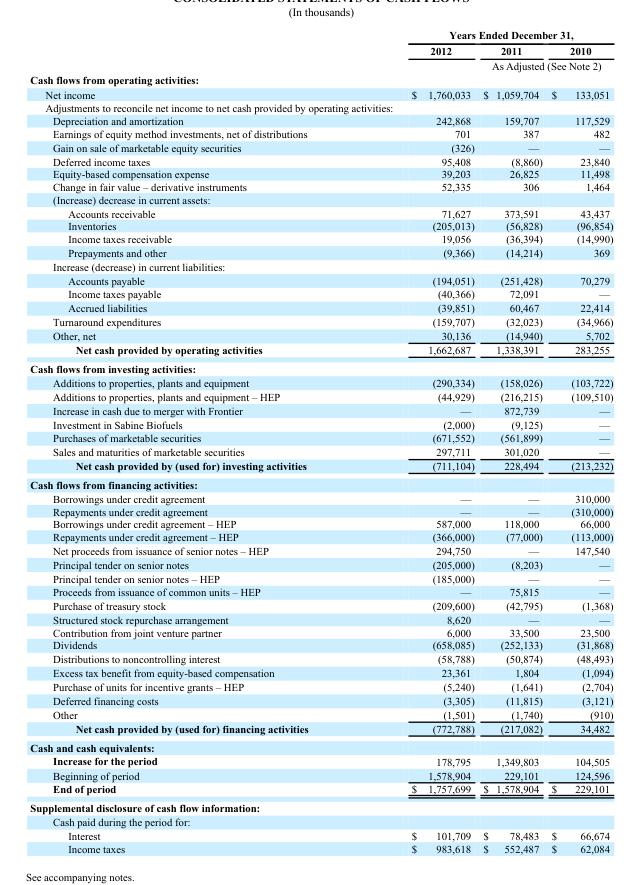table: (29, 28, 612, 854)
table column: (29, 28, 359, 854), (359, 28, 478, 854), (478, 28, 546, 854), (546, 28, 612, 854)
table column header: (29, 28, 612, 72)
table projected row header: (29, 358, 612, 375), (29, 474, 612, 491), (29, 737, 612, 753), (29, 798, 612, 814), (29, 72, 612, 86), (29, 192, 612, 206), (29, 259, 612, 273), (29, 814, 612, 828), (29, 100, 612, 113)
table row: (29, 358, 612, 375), (29, 474, 612, 491), (29, 781, 612, 798), (29, 342, 612, 358), (29, 458, 612, 474), (29, 721, 612, 737), (29, 737, 612, 753), (29, 798, 612, 814), (29, 42, 612, 57), (29, 57, 612, 72), (29, 28, 612, 42), (29, 72, 612, 86), (29, 86, 612, 100), (29, 113, 612, 127), (29, 140, 612, 154), (29, 192, 612, 206), (29, 231, 612, 245), (29, 245, 612, 259), (29, 259, 612, 273), (29, 286, 612, 300), (29, 300, 612, 314), (29, 314, 612, 328), (29, 328, 612, 342), (29, 375, 612, 389), (29, 389, 612, 403), (29, 416, 612, 430), (29, 430, 612, 444), (29, 444, 612, 458), (29, 529, 612, 543), (29, 543, 612, 557), (29, 570, 612, 584), (29, 584, 612, 598), (29, 598, 612, 612), (29, 651, 612, 665), (29, 665, 612, 679), (29, 679, 612, 693), (29, 693, 612, 707), (29, 707, 612, 721), (29, 753, 612, 767), (29, 767, 612, 781), (29, 814, 612, 828), (29, 100, 612, 113), (29, 127, 612, 140), (29, 154, 612, 167), (29, 167, 612, 180), (29, 206, 612, 219), (29, 273, 612, 286), (29, 403, 612, 416), (29, 491, 612, 504), (29, 504, 612, 517), (29, 557, 612, 570), (29, 612, 612, 625), (29, 625, 612, 638), (29, 638, 612, 651), (29, 828, 612, 841), (29, 841, 612, 854), (29, 180, 612, 192), (29, 219, 612, 231), (29, 517, 612, 529)
table spanning cell: (359, 42, 478, 72), (359, 28, 612, 42), (478, 57, 612, 72)
